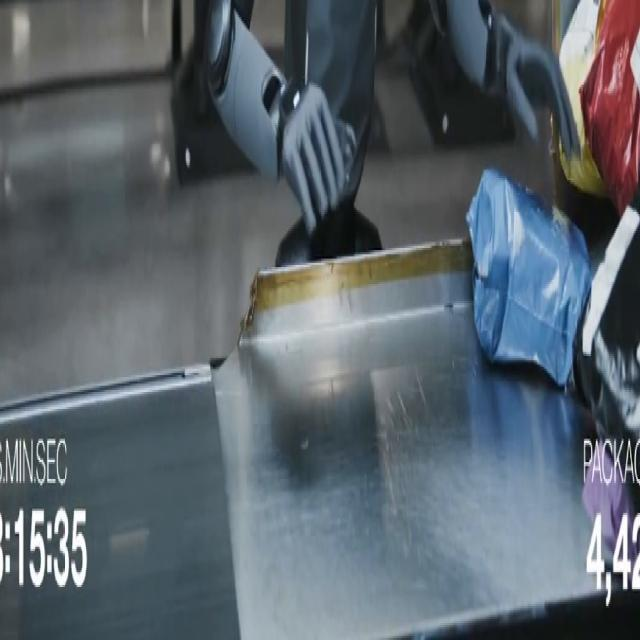package: (467, 170, 591, 385), (574, 208, 639, 447), (581, 0, 639, 216), (583, 441, 639, 565)
